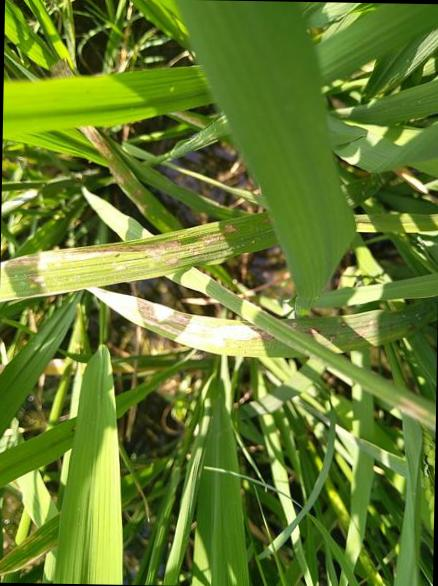Leaf Streak: (0, 212, 278, 301), (87, 286, 303, 357), (78, 125, 182, 232), (283, 295, 438, 352), (390, 392, 436, 433), (47, 61, 73, 77)
